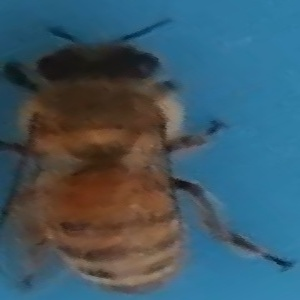bee: (2, 20, 292, 299)
